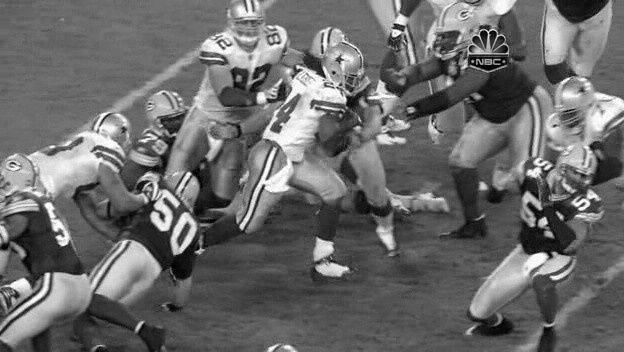person: (329, 47, 364, 91), (328, 47, 363, 91), (330, 47, 365, 91), (329, 46, 364, 90), (329, 48, 364, 92)
target_negative: (120, 250, 498, 344), (443, 80, 533, 165), (269, 193, 494, 219), (615, 86, 623, 281), (577, 207, 589, 295), (196, 344, 281, 351)
